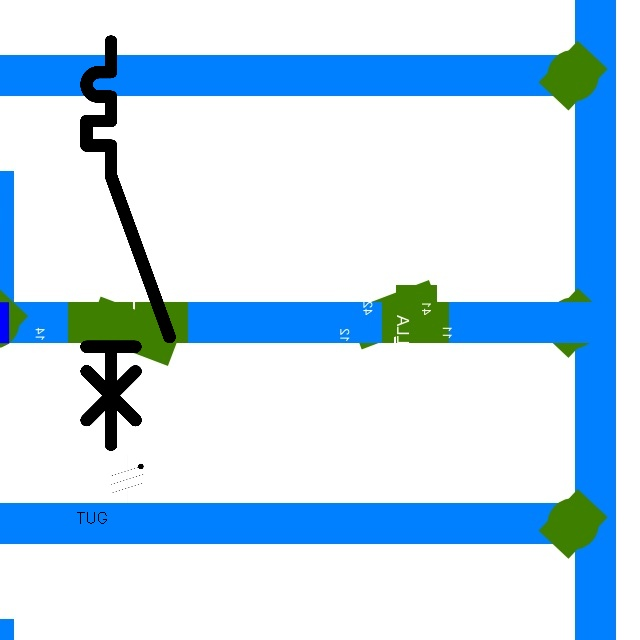interruptor_termomagnetico: (76, 31, 180, 455)
